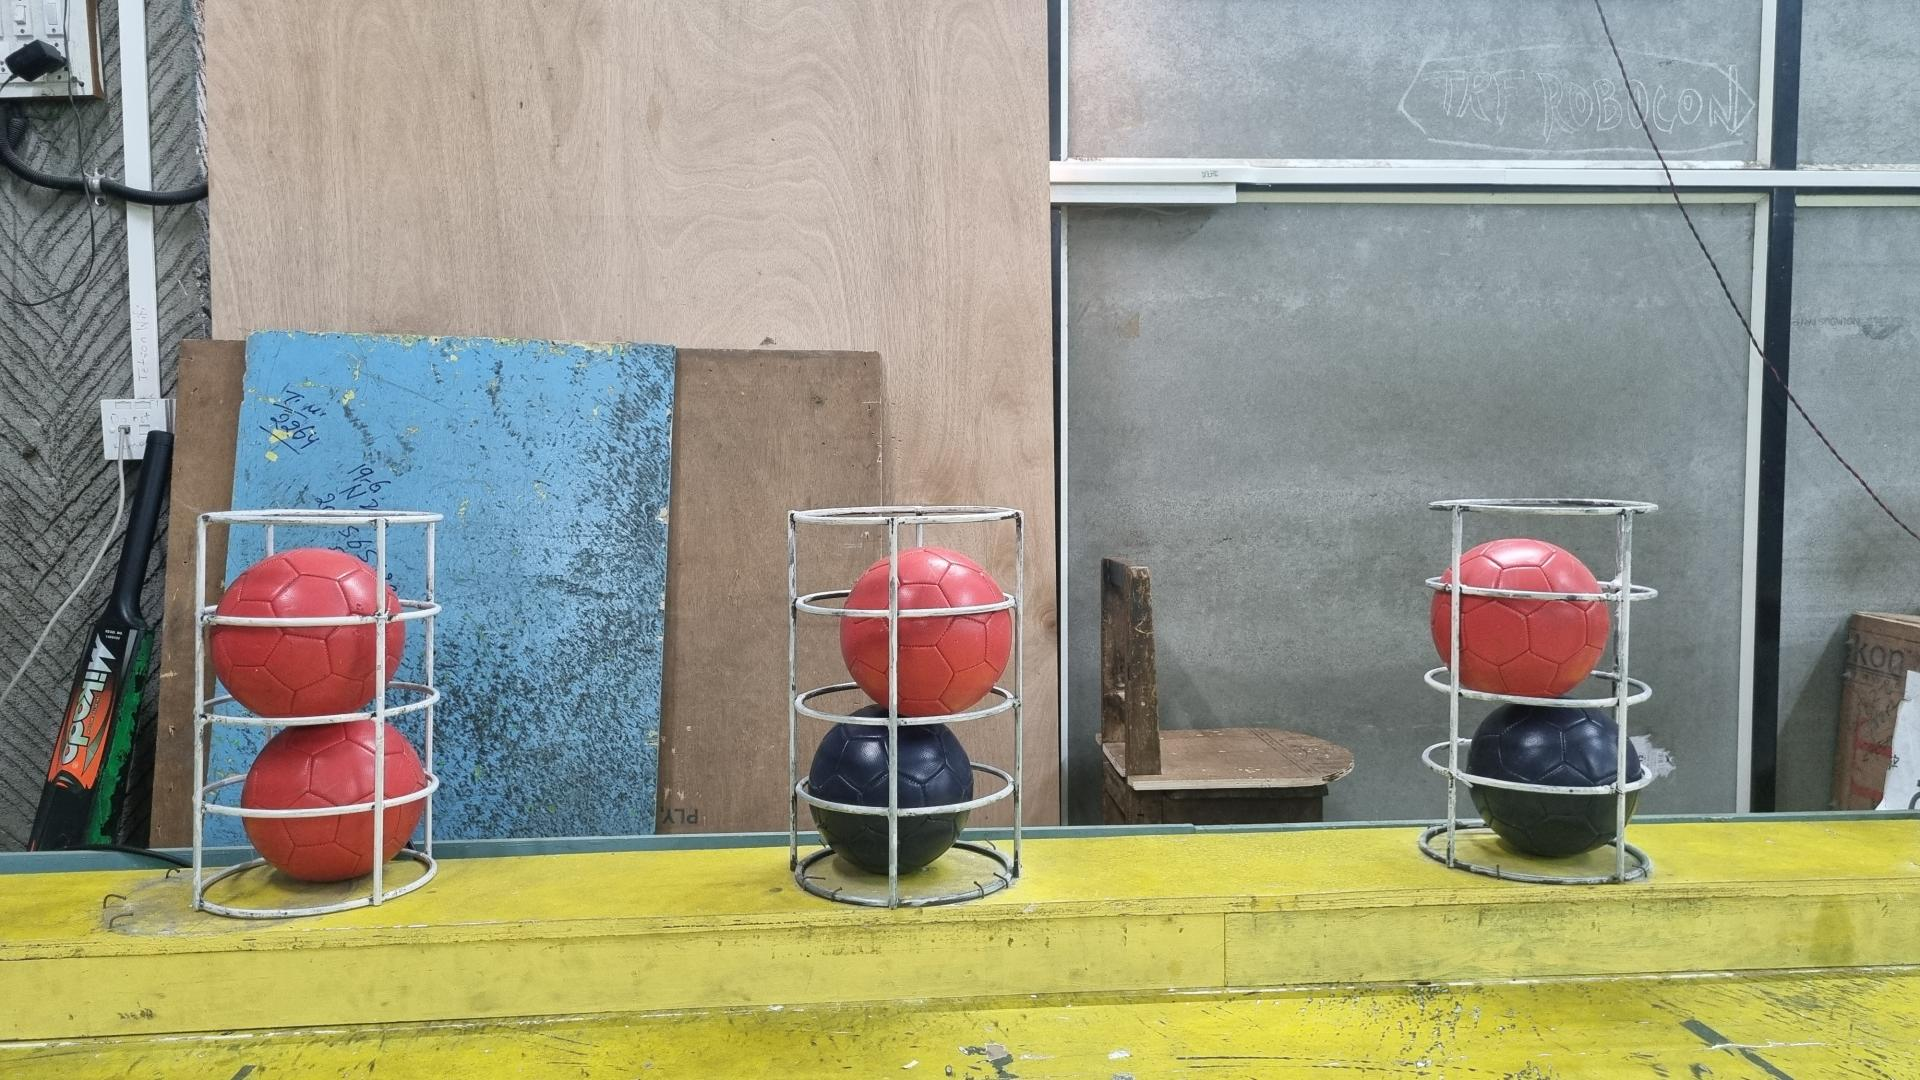dhoka: (806, 704, 975, 876), (1468, 705, 1651, 858)
laale: (210, 546, 405, 719), (240, 720, 427, 885), (1429, 537, 1613, 698), (839, 549, 1011, 717)
